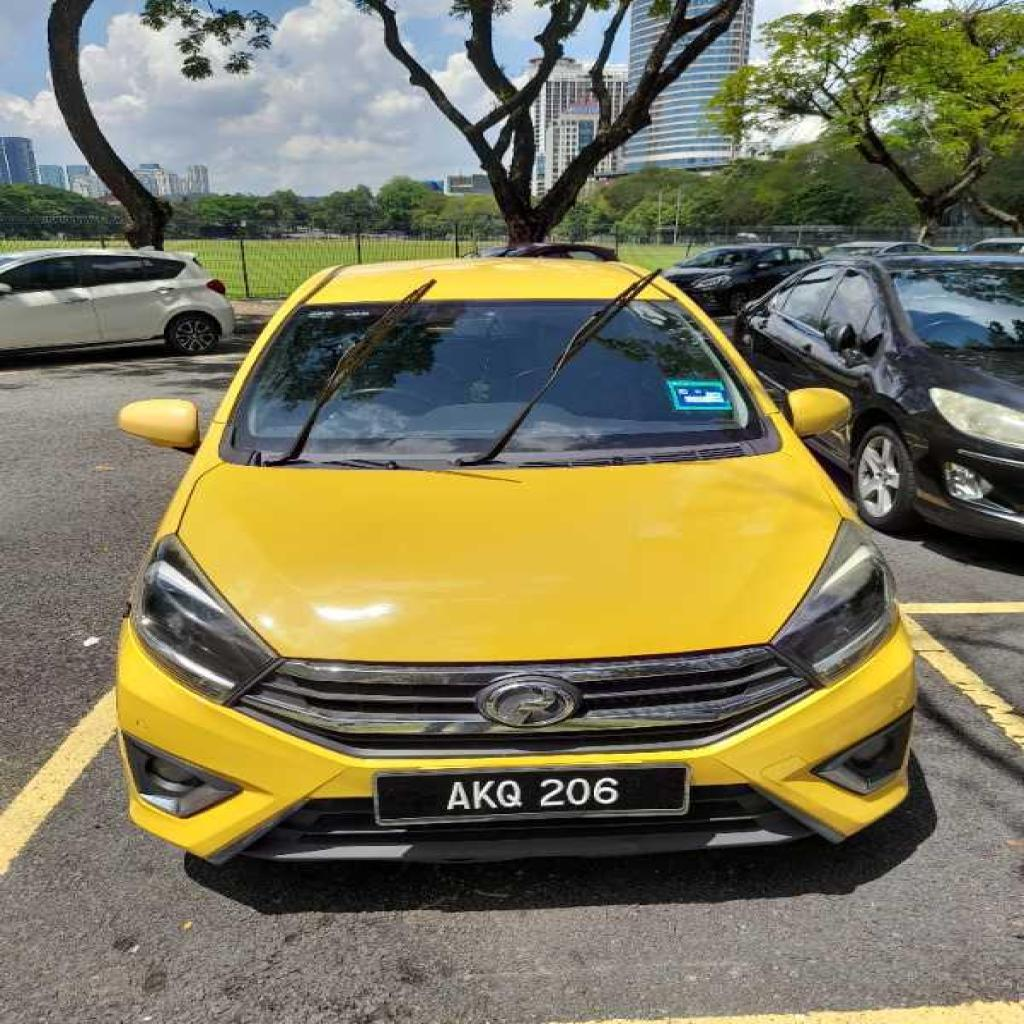car: (118, 259, 913, 859)
car plate: (375, 765, 686, 822)
